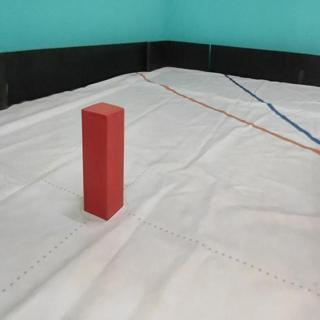redbox: (81, 101, 125, 218)
